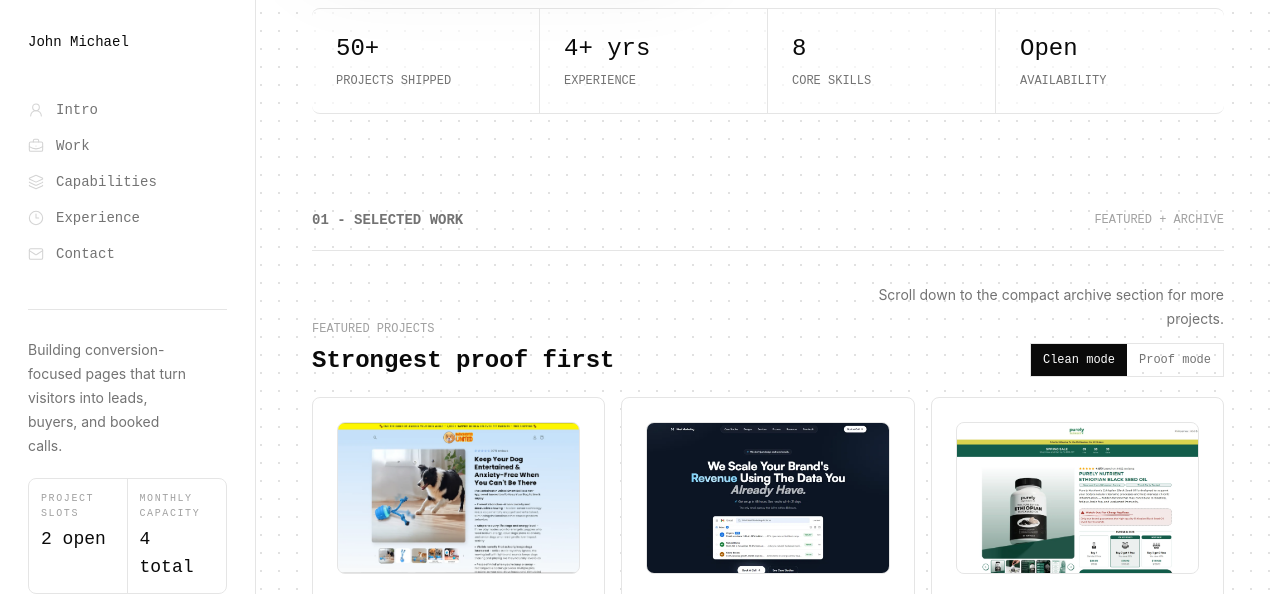
Test: Portfolio landing page › guides visitors through proof mode layers
The image size is (1280, 594).
(page scrolled)
Expected: the heading "proof mode guided tour" is not shown
Click the button "Proof mode" at coordinates (1175, 360), box [1127,344,1223,376]
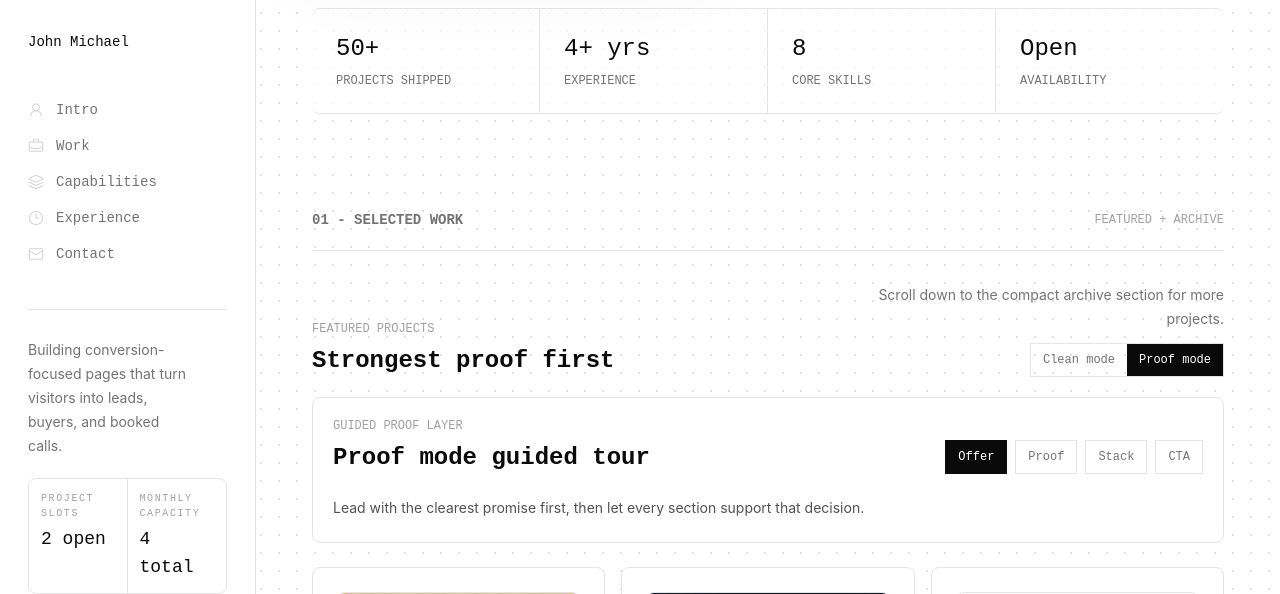
Now the heading "Proof mode guided tour" is shown, box [333,442,650,474]
Now the text "Lead with the clearest promise" is shown, box [333,499,864,516]
Click the button with aria-label "cta tour step" at coordinates (1179, 457), box [1155,440,1203,474]
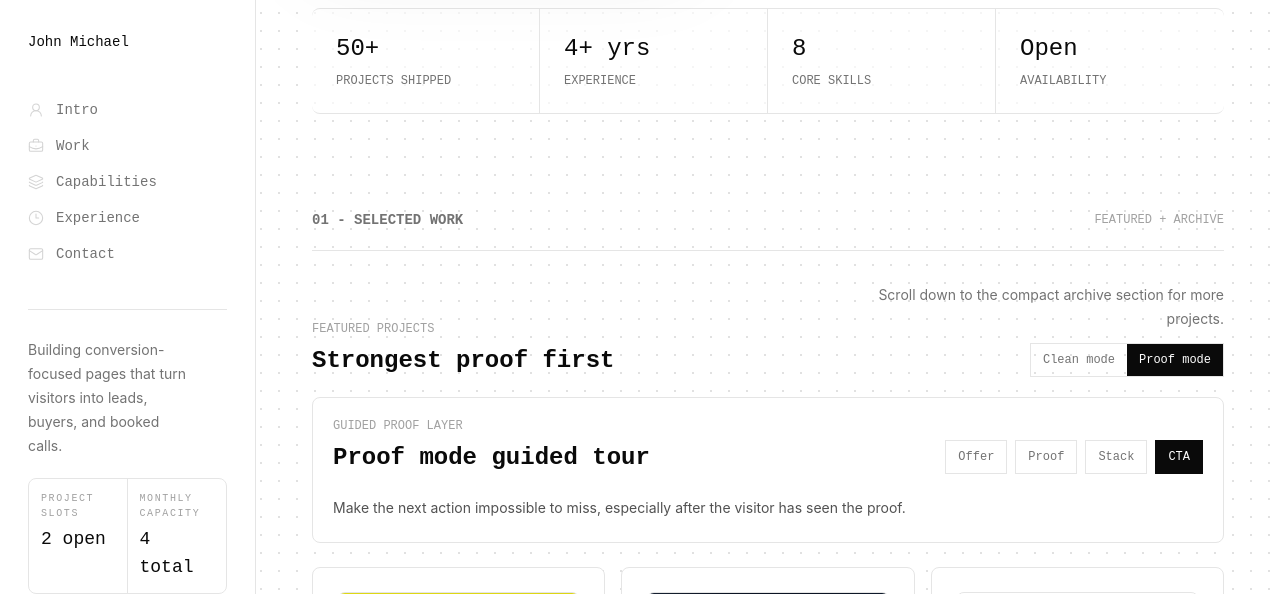
Now the text "Make the next action impossible to miss" is shown, box [333,499,906,516]
